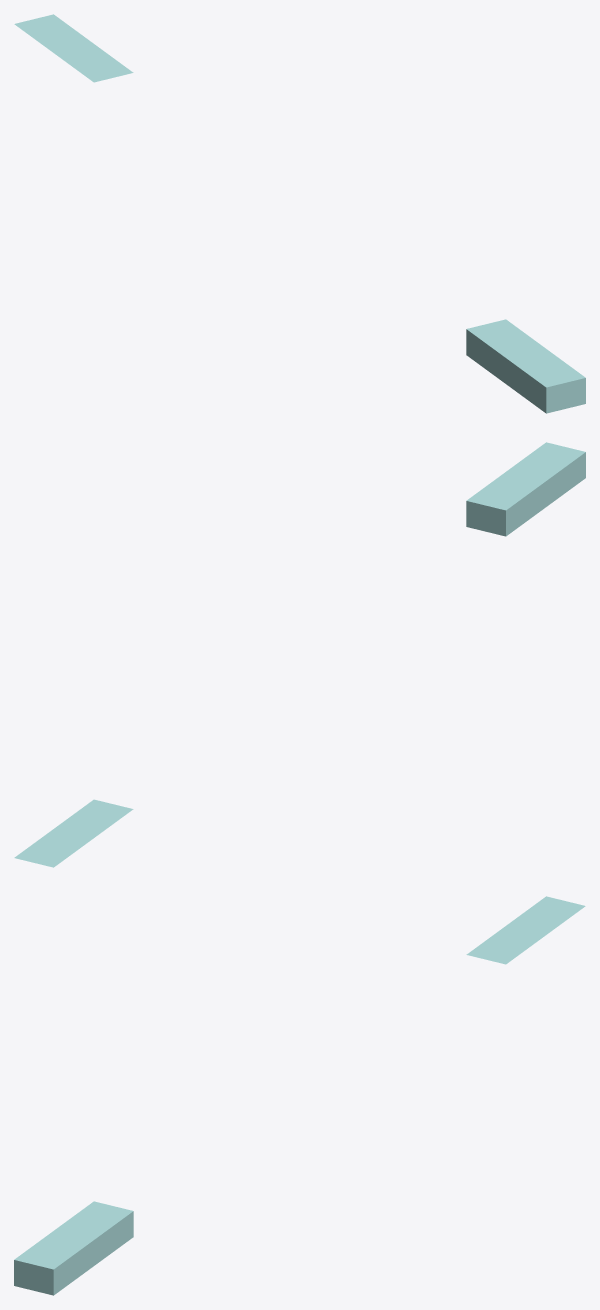
The model's file is Ring_02_Outer_Channel_01.fbx.
The picture shows the model from 3 angles, top to bottom: view 1: azimuth 30°, elevation 25°; view 2: azimuth 150°, elevation 25°; view 3: azimuth 330°, elevation 25°; orthographic projection.
Parts seen in each view (by area): view 1: Ring_02_Outer_Channel_01, Ring_02_Outer_Floor_01; view 2: Ring_02_Outer_Channel_01, Ring_02_Outer_Floor_01; view 3: Ring_02_Outer_Channel_01, Ring_02_Outer_Floor_01.
Part boxes in pixels (x1=…): Ring_02_Outer_Channel_01: x1=466, y1=319, x2=585, y2=413; Ring_02_Outer_Floor_01: x1=14, y1=14, x2=133, y2=82; Ring_02_Outer_Channel_01: x1=466, y1=442, x2=585, y2=536; Ring_02_Outer_Floor_01: x1=14, y1=799, x2=133, y2=867; Ring_02_Outer_Channel_01: x1=14, y1=1201, x2=133, y2=1295; Ring_02_Outer_Floor_01: x1=466, y1=896, x2=585, y2=964.
Bounding box in the file's own units: 12.68 × 7.96 × 294.
